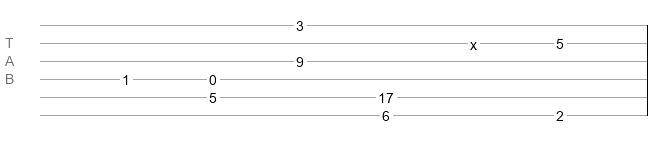0: (209, 72, 217, 82)
1: (122, 72, 130, 82)
17: (378, 90, 394, 100)
2: (556, 108, 564, 118)
3: (296, 18, 304, 28)
5: (209, 90, 217, 100), (556, 36, 564, 46)
6: (382, 108, 390, 118)
9: (296, 54, 304, 64)
x: (470, 37, 477, 45)
